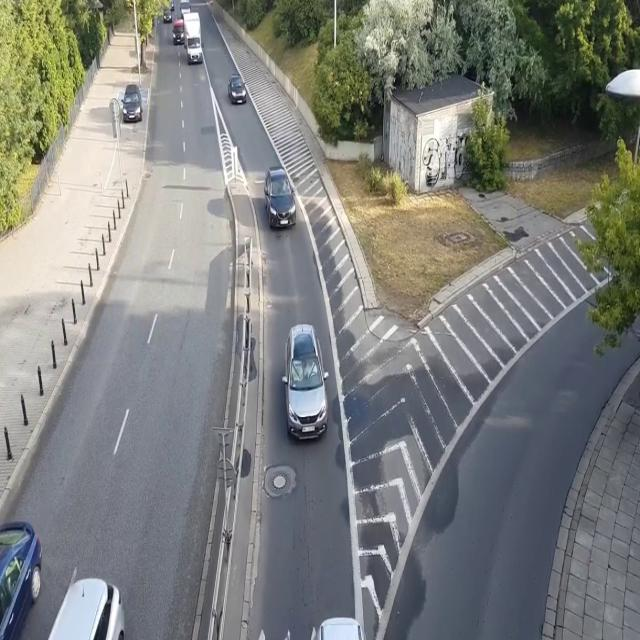car: (279, 325, 330, 444), (31, 575, 124, 640), (0, 518, 42, 640), (262, 164, 296, 230), (307, 615, 372, 640), (121, 83, 143, 123), (227, 74, 247, 105), (162, 9, 172, 23), (165, 0, 174, 10)
truck: (183, 11, 204, 65)
van: (171, 19, 185, 45), (179, 0, 192, 17)
